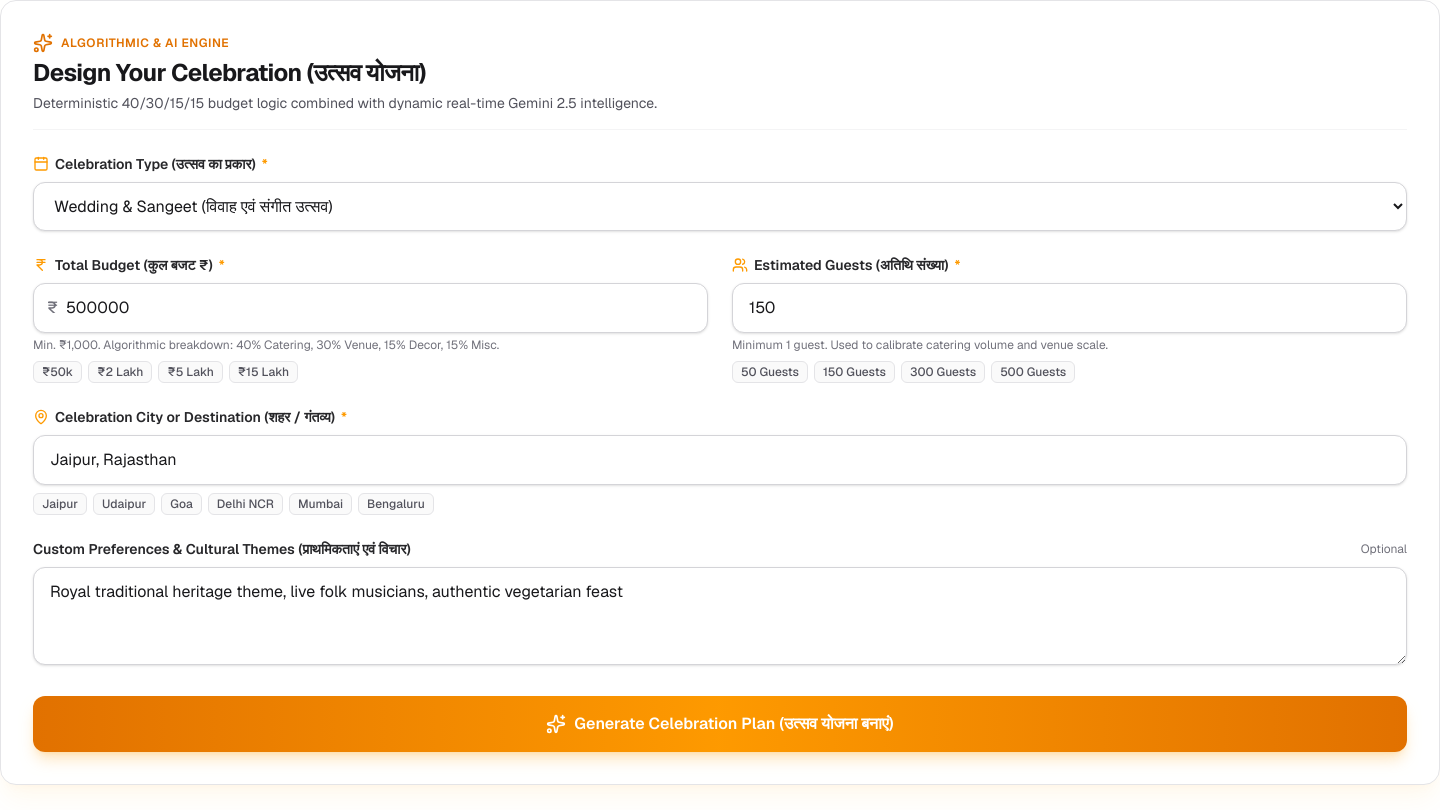
Test: Day 2: UI, Dashboard & Accessibility Tests › 1. EventForm Component & Accessibility › should display validation error when budget is below 1000
The image size is (1440, 810).
# Clear budget and type an invalid value below 1000
Type "500" into the number field named "Total budget in Indian Rupees" at coordinates (370, 308), box x1=33 y1=283 x2=708 y2=333
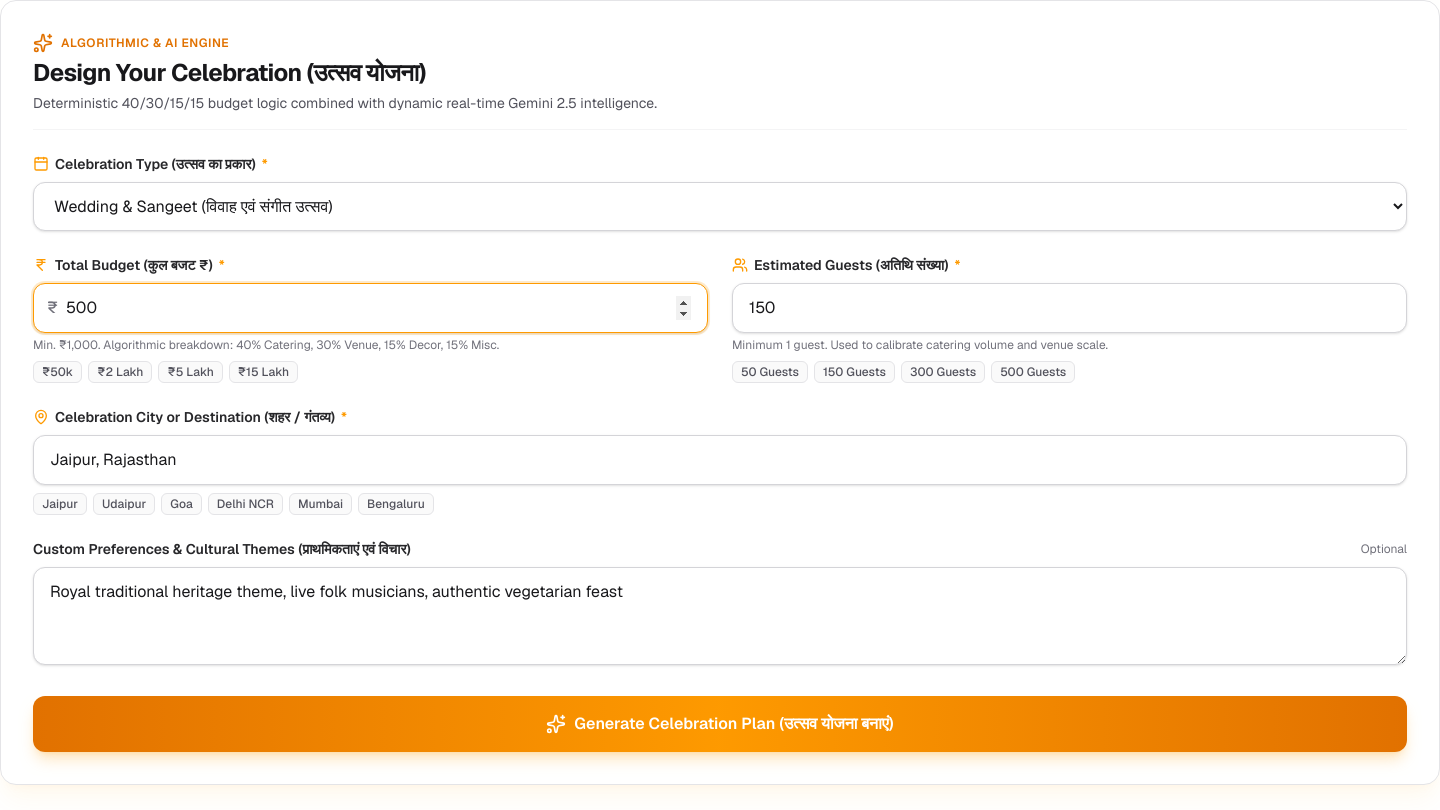
Click the button "Generate Celebration Plan (उत्सव योजना बनाएं)" at coordinates (720, 724), box x1=33 y1=696 x2=1407 y2=752
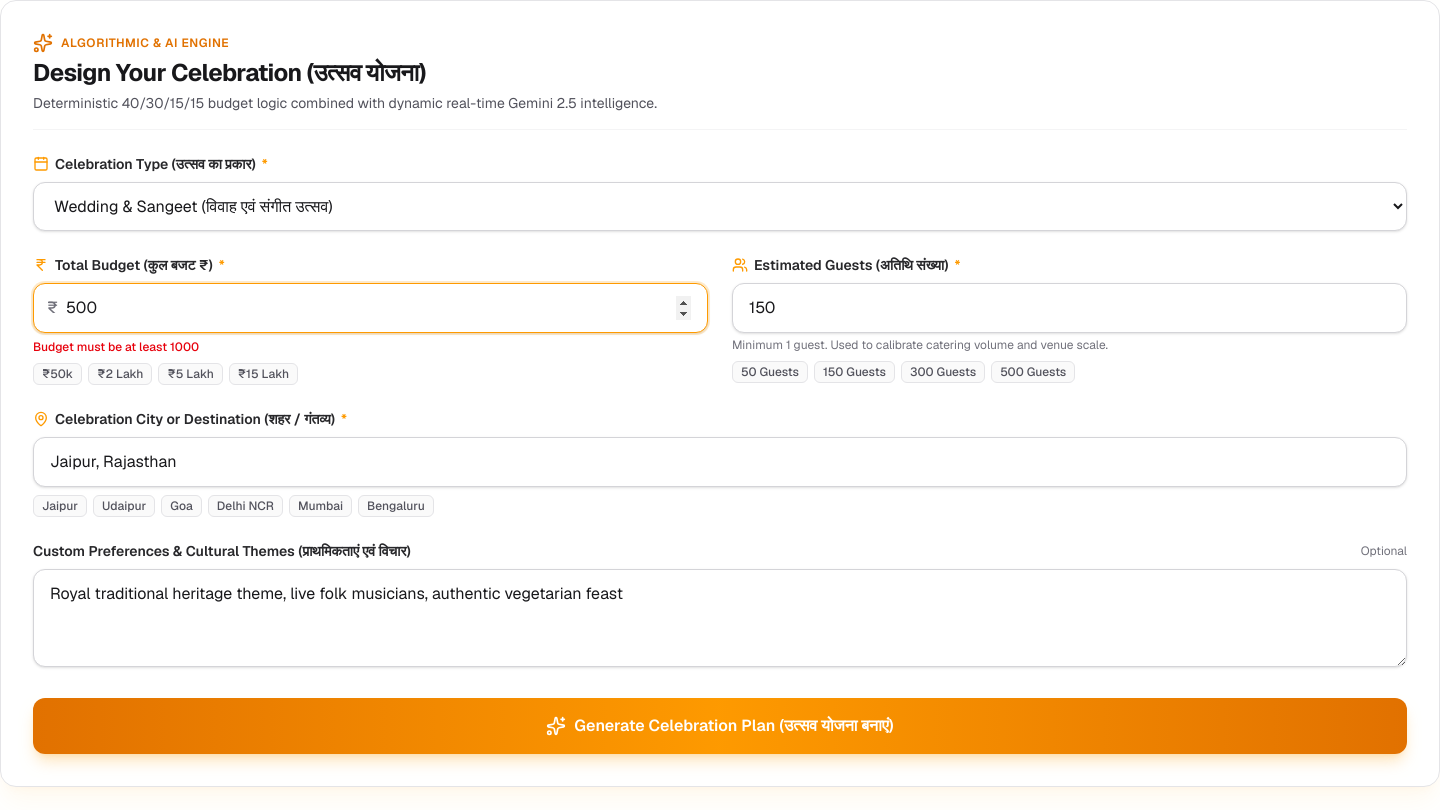
Now the text "Budget must be at least 1000" is shown, box x1=33 y1=339 x2=199 y2=355
